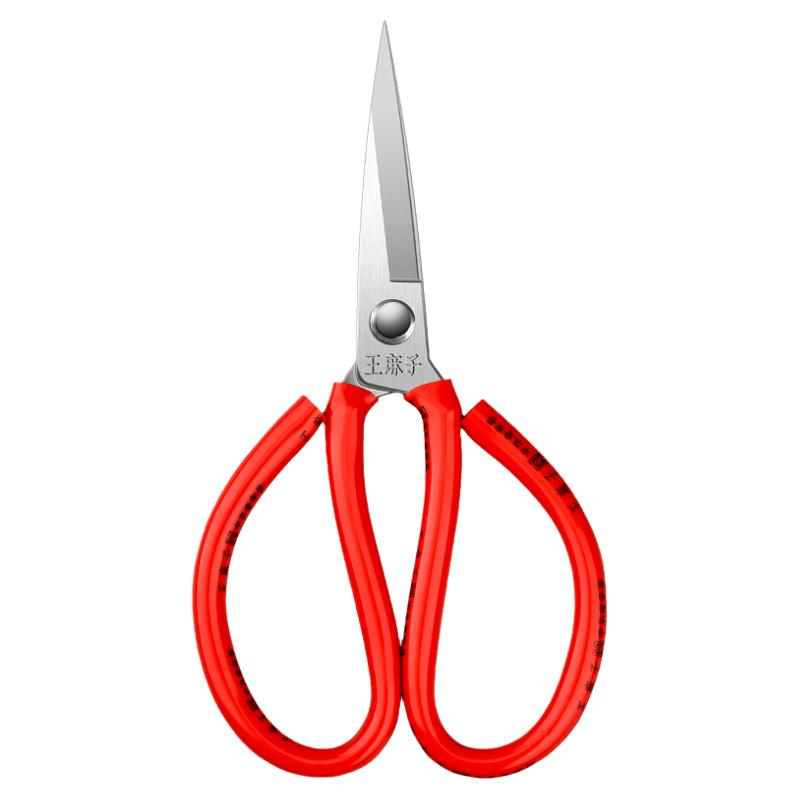scissors: (176, 19, 633, 785)
